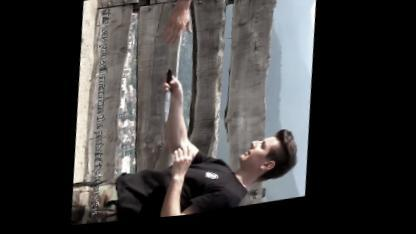knife: (160, 68, 184, 130)
